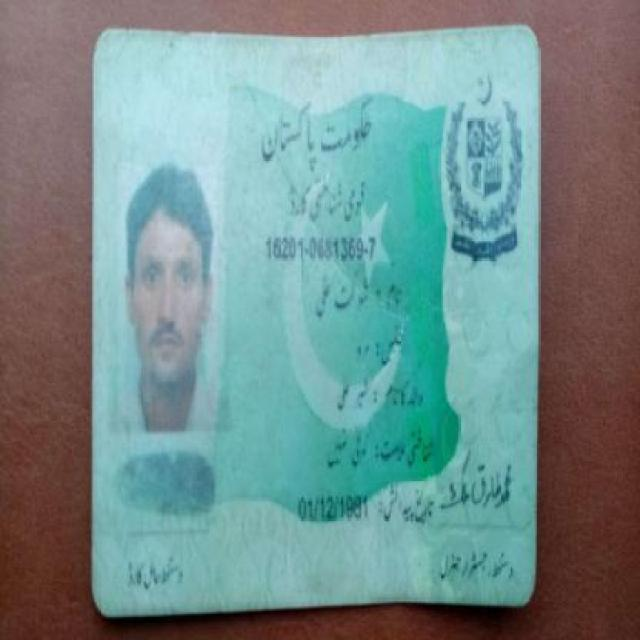Front: (88, 23, 537, 615)
